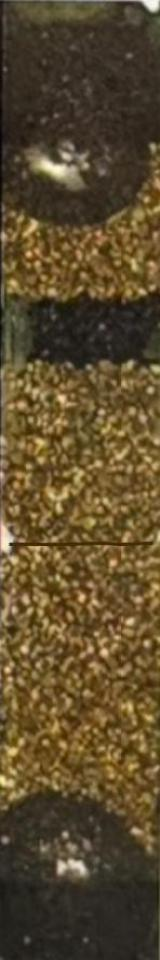blackline: (11, 536, 150, 550)
